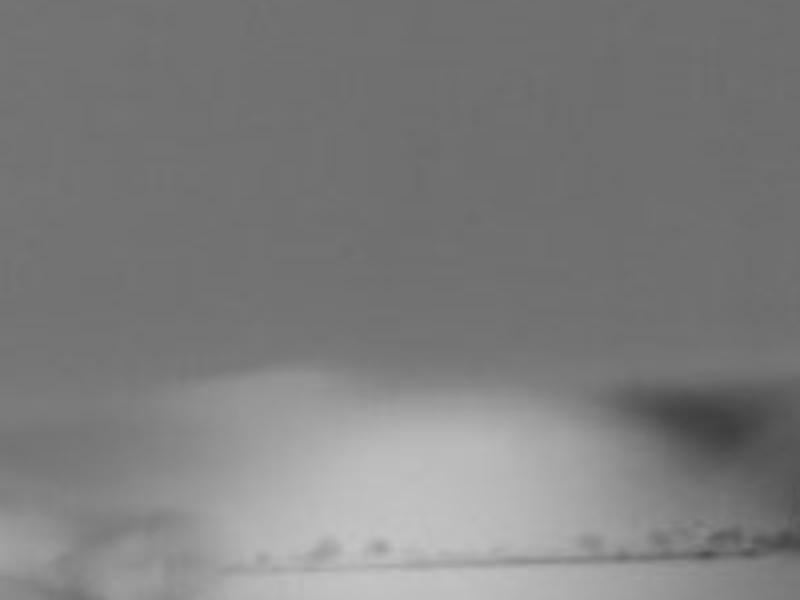defect: (300, 538, 343, 565), (705, 524, 749, 548), (244, 550, 282, 575), (569, 531, 606, 554), (754, 531, 792, 552), (360, 537, 391, 557), (647, 528, 672, 551), (674, 524, 699, 545)
